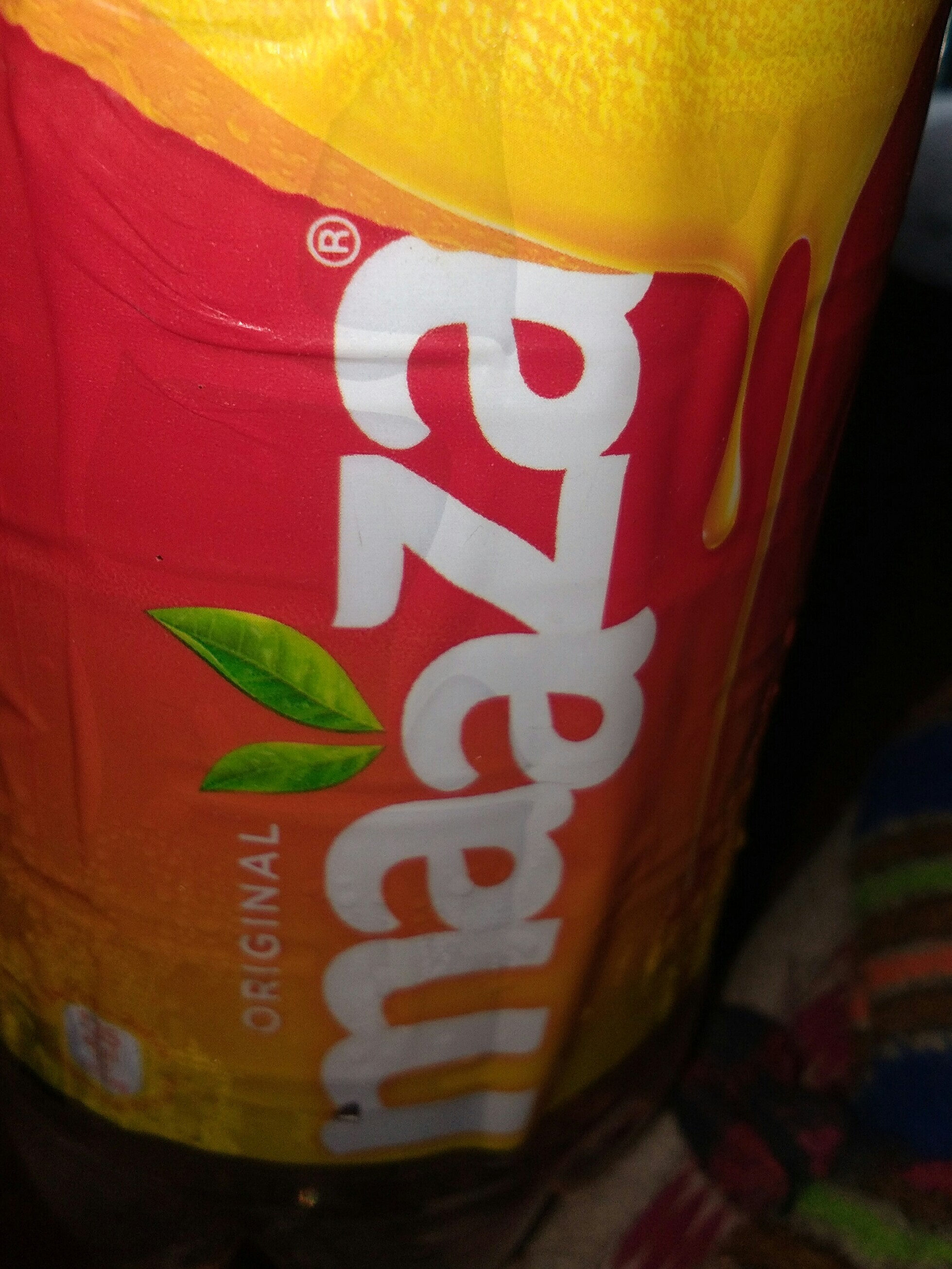Maaza Origina: (86, 114, 866, 1155)
